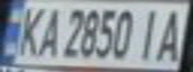0: (112, 4, 139, 61)
2: (60, 3, 84, 59)
5: (97, 4, 118, 60)
8: (78, 3, 100, 60)
A: (151, 4, 190, 63), (33, 2, 63, 58)
I: (133, 5, 166, 62)
K: (9, 2, 48, 58)
